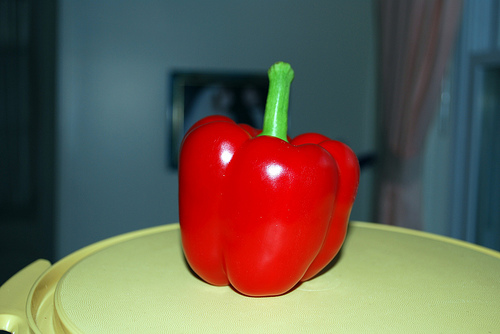capsicum: (179, 62, 362, 300)
